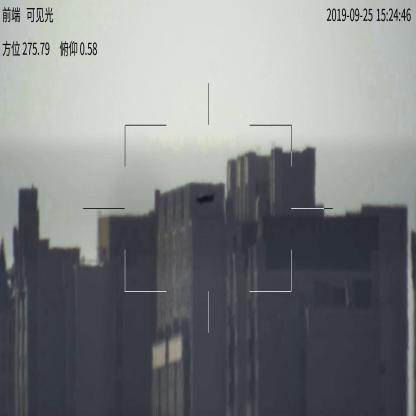uav: (198, 193, 216, 207)
